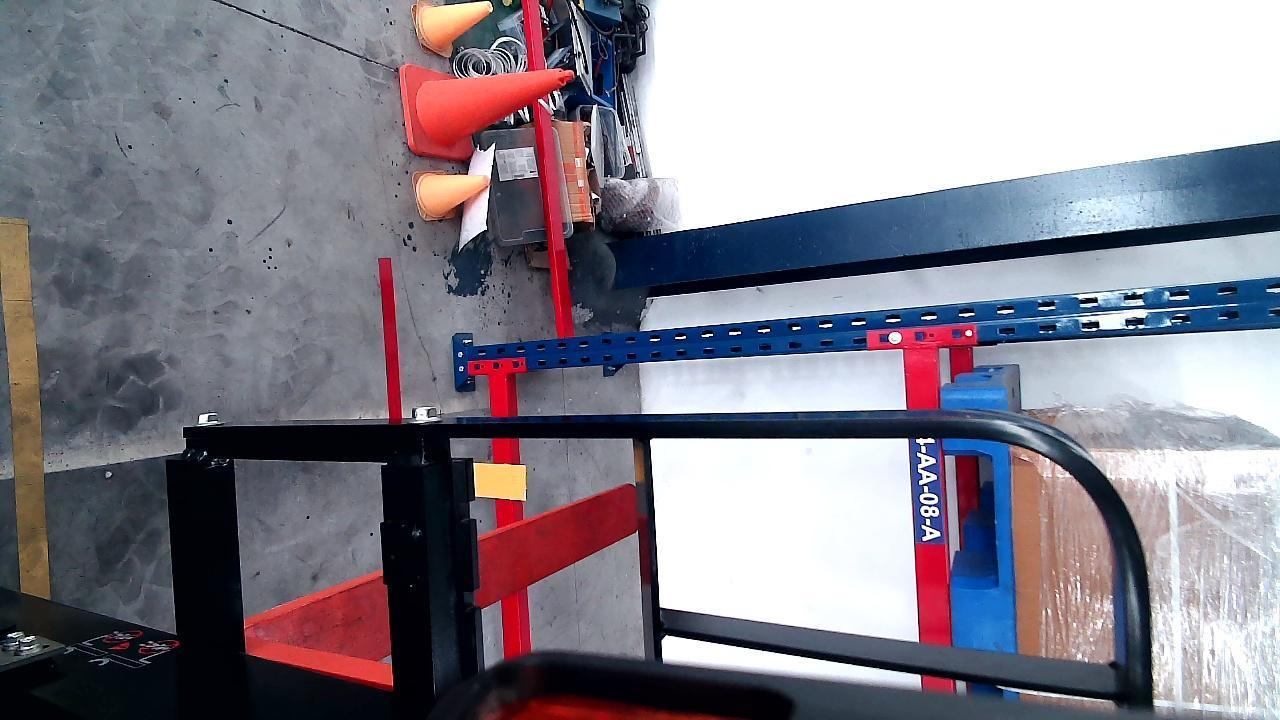h_rack: (907, 386, 949, 653), (485, 411, 528, 670)
orange_strip: (474, 460, 526, 501)
red_line: (376, 253, 405, 420)
small_pallet: (948, 433, 1016, 649)
yellow_line: (6, 217, 51, 610)
